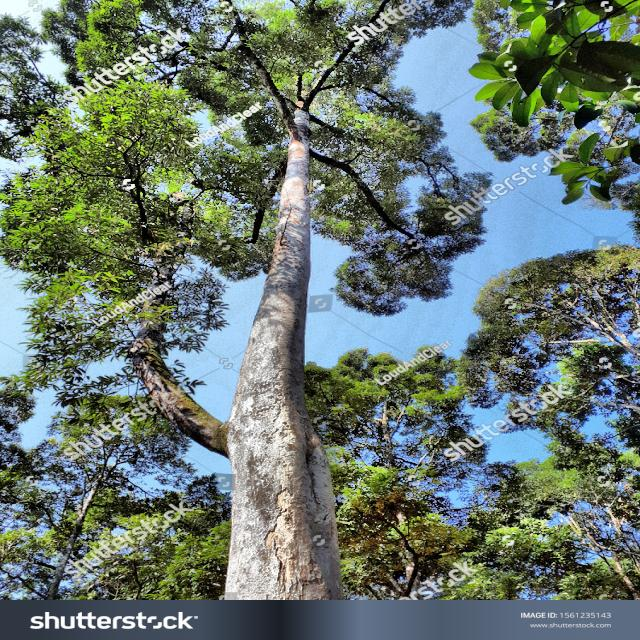arvore: (229, 96, 356, 605)
